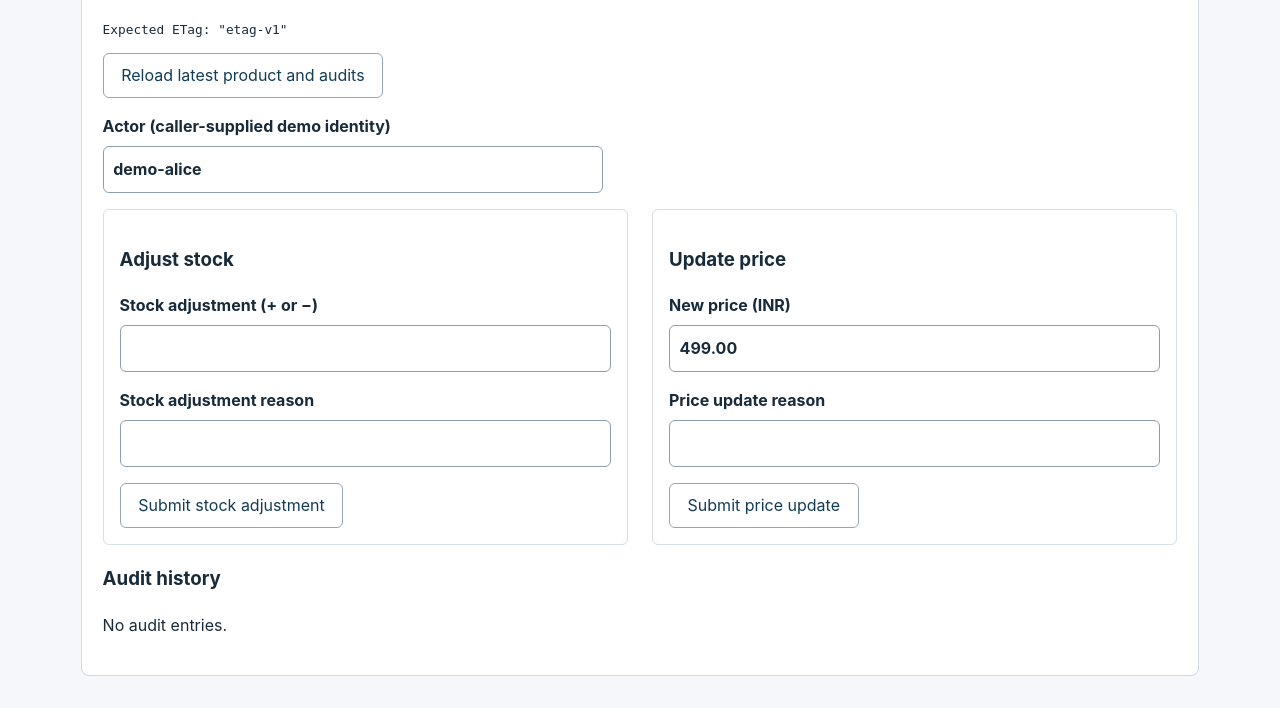
stock adjustment 5 submits exact ETag, actor and reason
(page scrolled)
Check: the button "Submit stock adjustment" is enabled, box [120, 483, 343, 528]
Step 1. Type "5" into the number field labelled "Stock adjustment (+ or −)" → (365, 349), box [120, 325, 611, 372]
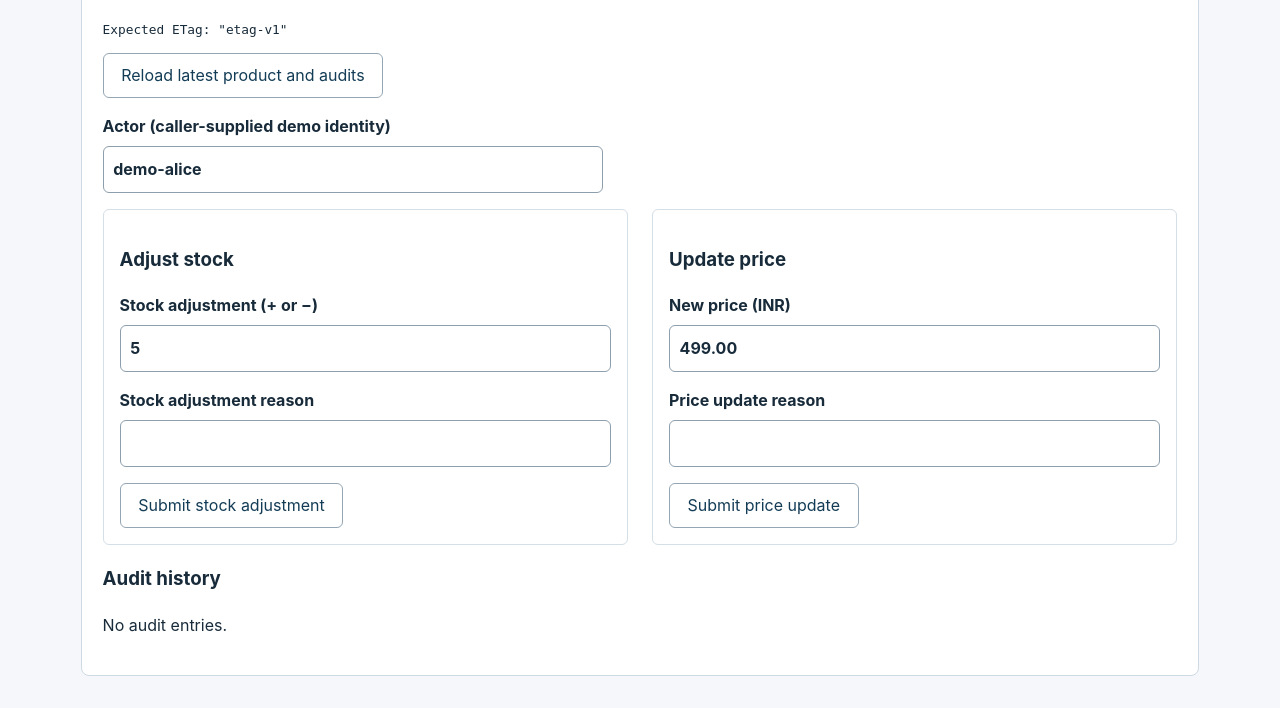
Step 2. Type "Stock recount" into the field labelled "Stock adjustment reason" → (365, 444), box [120, 420, 611, 467]
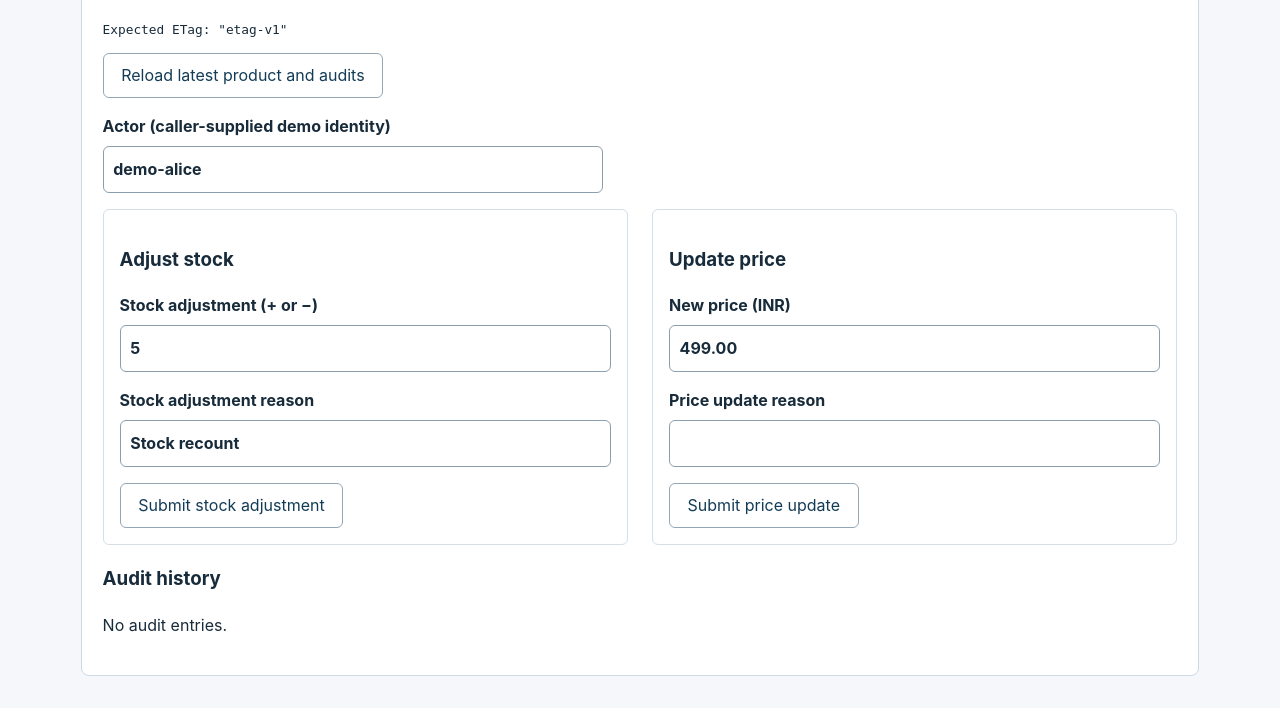
Step 3. Replace the text in the field labelled "Actor (caller-supplied demo identity)" with "demo-admin" → (353, 170), box [103, 146, 603, 193]
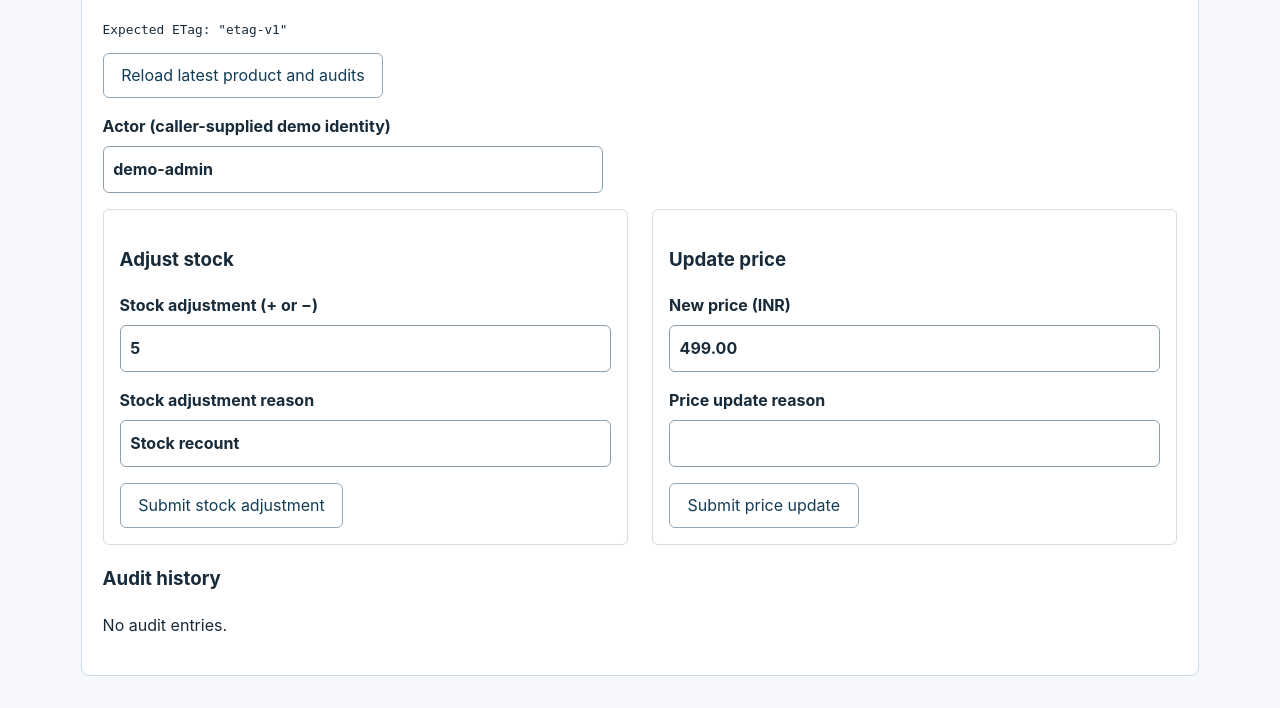
Step 4. Click the button "Submit stock adjustment" → (231, 506), box [120, 483, 343, 528]
(page scrolled)
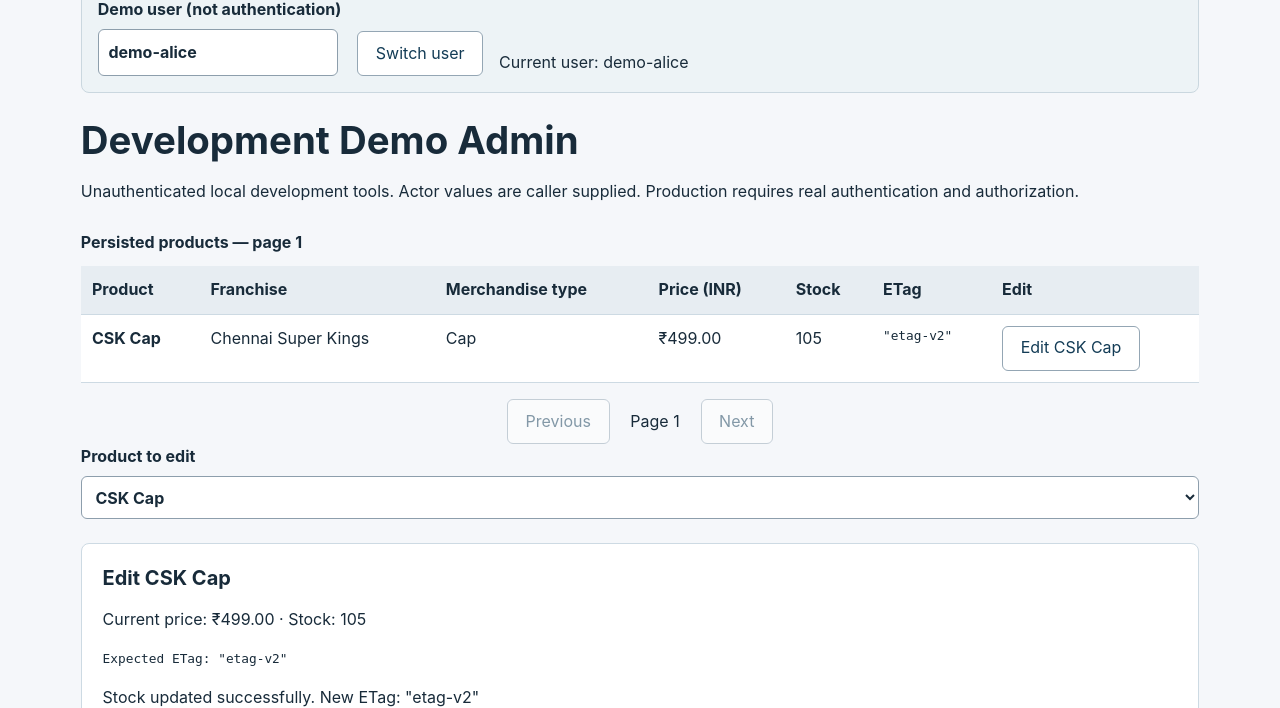
Check: the text "Stock updated successfully. New ETag: \"etag-v2\"" is shown, box [103, 687, 479, 707]
Check: the text "105" is shown, box [785, 314, 872, 383]
Check: the text "\"etag-v2\"" is shown, box [872, 314, 991, 383]
